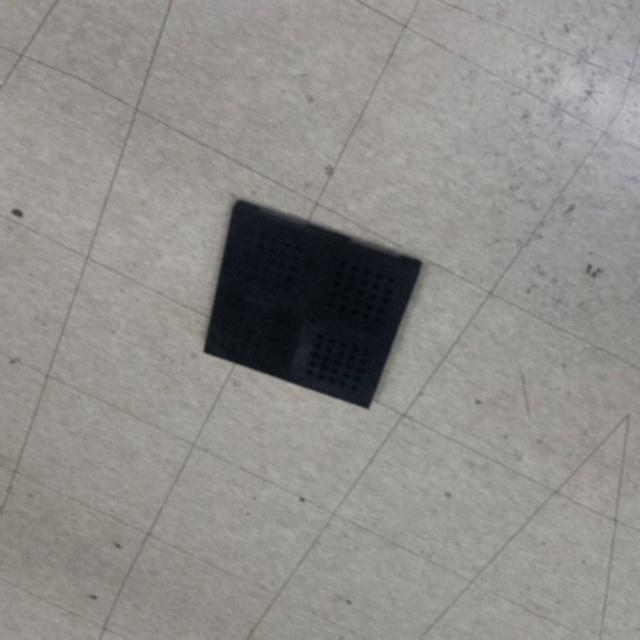pallet: (192, 192, 428, 418)
